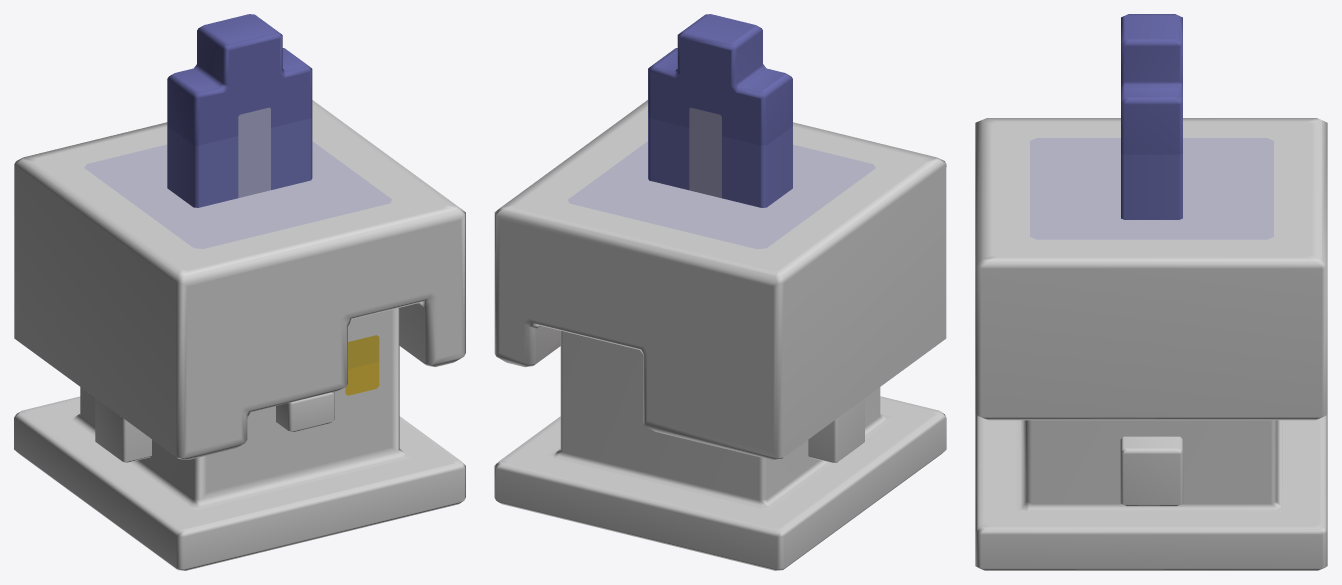
The picture shows the model from 3 angles, left to right: view 1: azimuth 30°, elevation 25°; view 2: azimuth 150°, elevation 25°; view 3: azimuth 270°, elevation 25°; orthographic projection. The views are drawn at different scales.
Visible parts, largest first — view 1: model; view 2: model; view 3: model.
Boxes of the visible parts, box(x1,y1,x2,y2) form: model: box(14, 14, 465, 570); model: box(494, 14, 946, 570); model: box(975, 14, 1327, 570).
Size of the model in its own units: 1.12 by 1.66 by 1.13.
